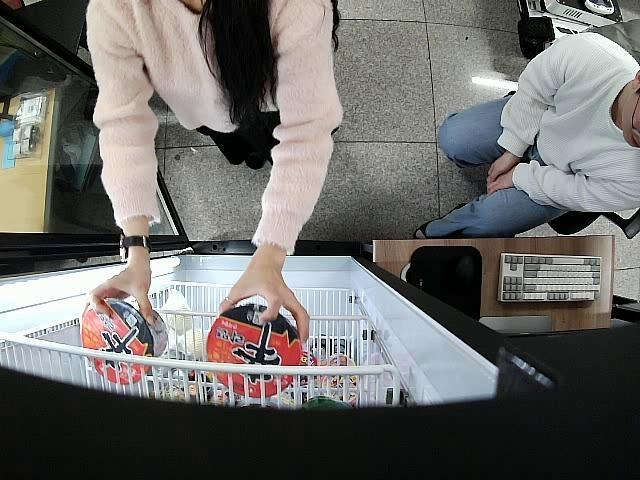01_ShinRamen_L: (204, 305, 304, 396), (80, 300, 166, 386)
